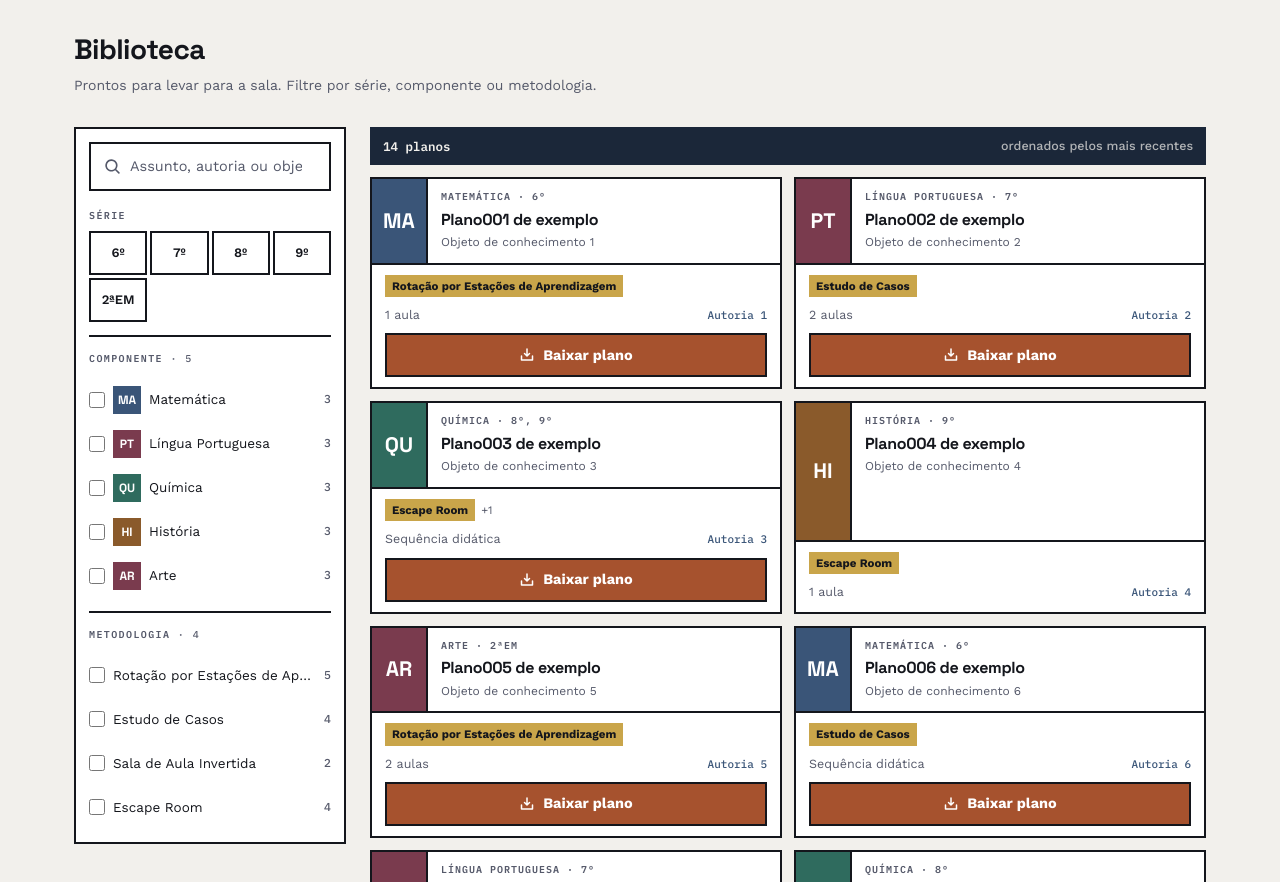
Test: PaginaBiblioteca › clicar num chip já ativo o remove sem derrubar os outros selecionados
Expected: the text "14 planos" is shown, [383, 137, 450, 155]
Click the button named "6º ano do Ensino Fundamental": (118, 253) [89, 231, 147, 275]
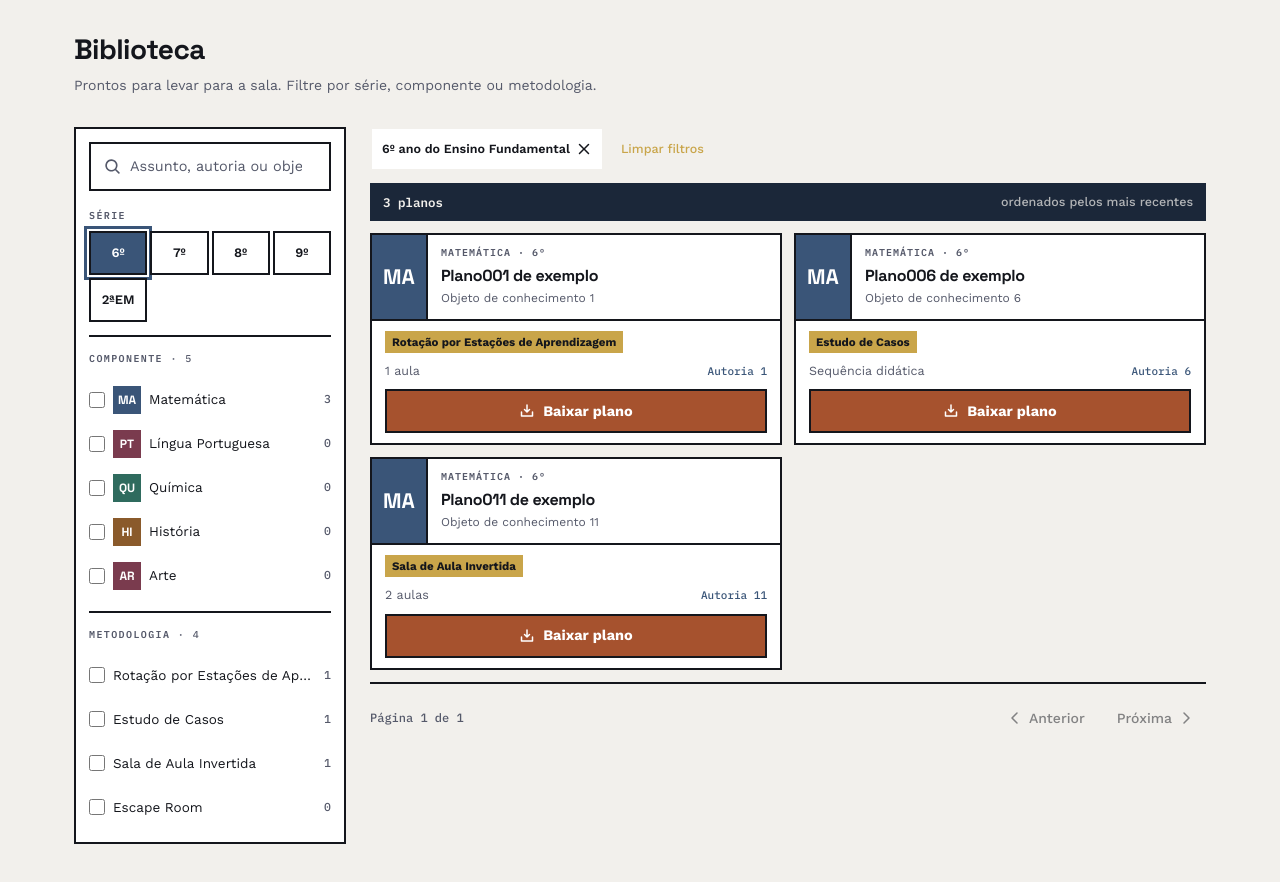
Click the button named "7º ano do Ensino Fundamental": (179, 253) [150, 231, 209, 275]
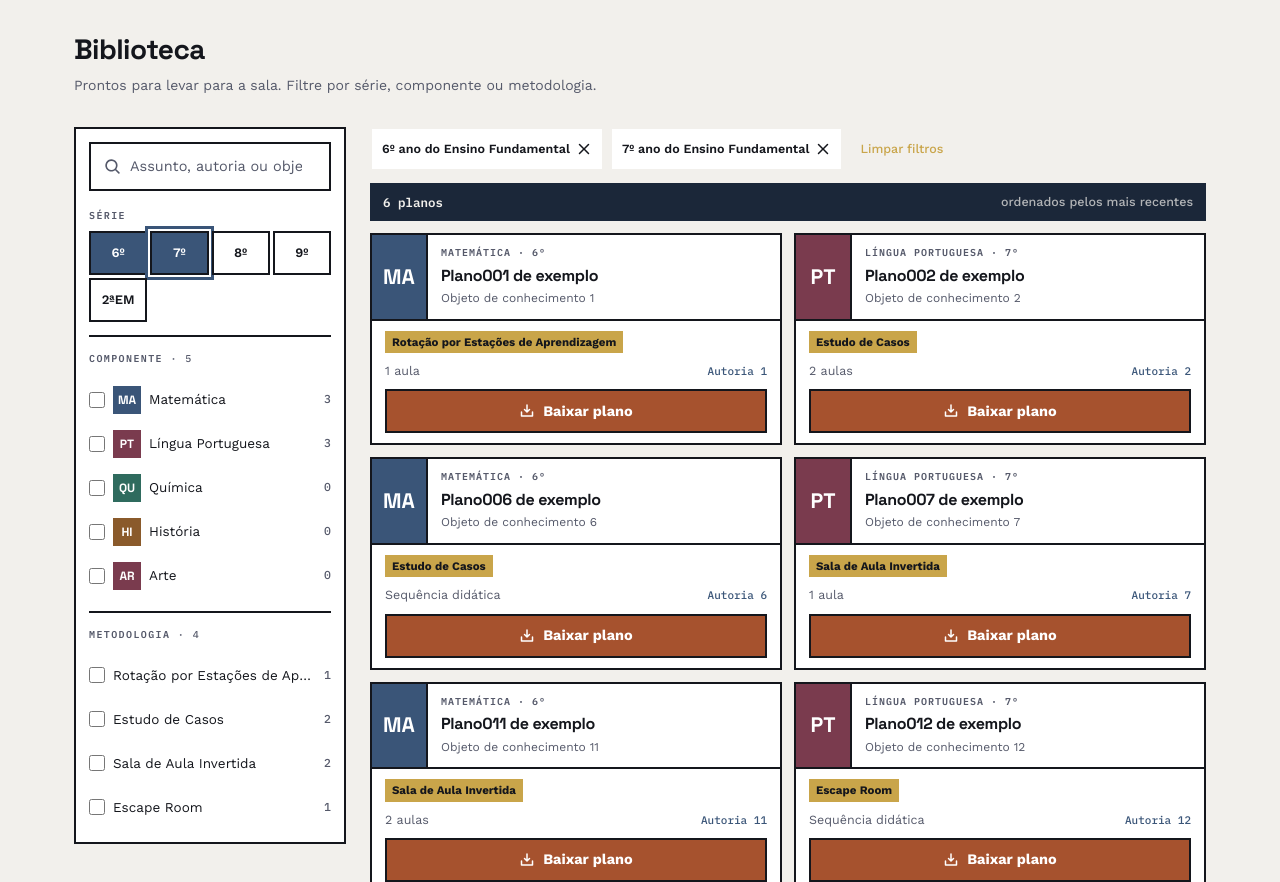
Expected: the text "6 planos" is shown, [383, 193, 443, 211]
Note: Desliga só o 6º: o 7º continua marcado e no resultado.
Click the button named "6º ano do Ensino Fundamental": (118, 253) [89, 231, 147, 275]
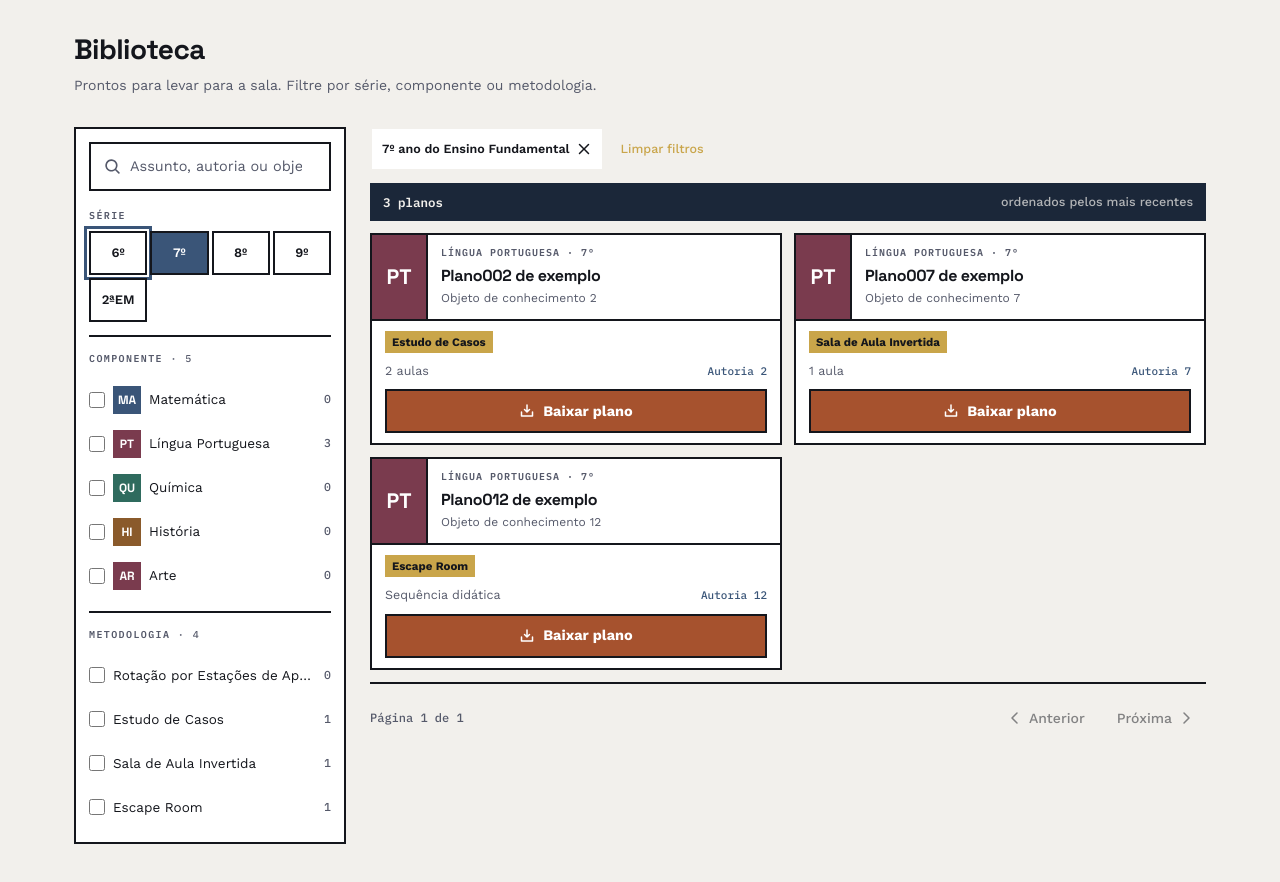
Expected: the text "3 planos" is shown, [383, 193, 443, 211]
